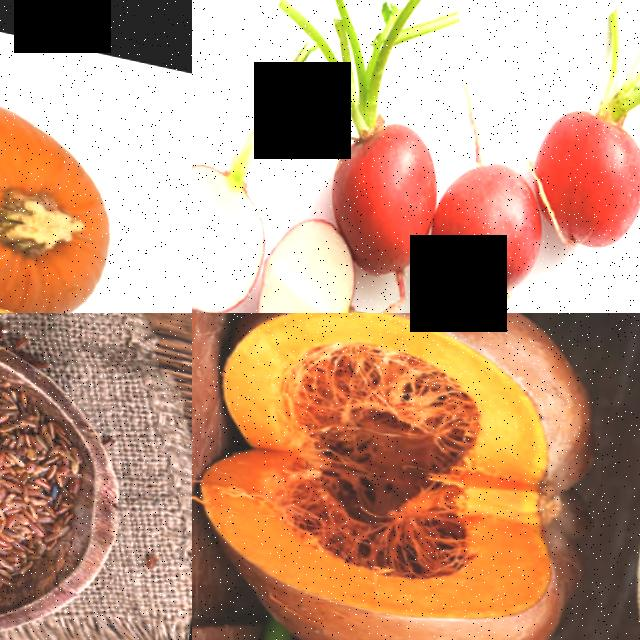pumpkin: (192, 313, 627, 640), (0, 45, 148, 313), (0, 248, 192, 313)
radishes: (334, 0, 461, 277), (415, 140, 554, 313), (192, 92, 288, 313), (546, 47, 640, 248), (245, 197, 403, 313)
red rice: (0, 313, 94, 614)
